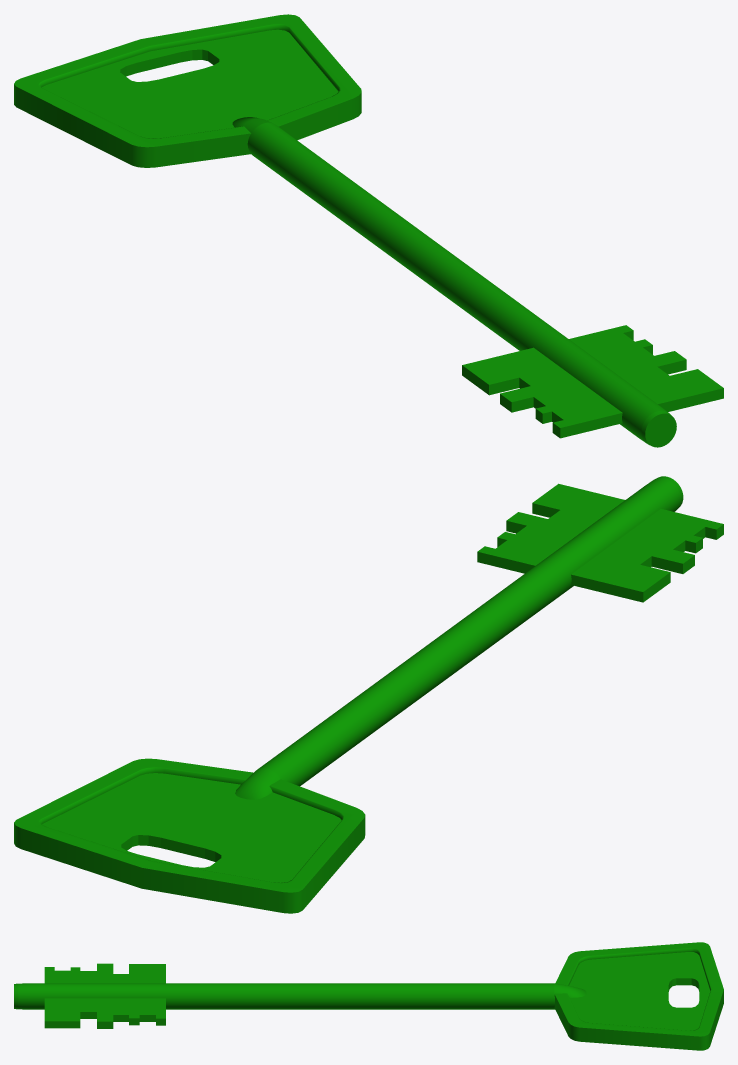
The model's file is key1_green.fbx.
The picture shows the model from 3 angles, top to bottom: view 1: azimuth 30°, elevation 25°; view 2: azimuth 150°, elevation 25°; view 3: azimuth 270°, elevation 25°; orthographic projection. The views are drawn at different scales.
Visible parts, largest first — view 1: key1; view 2: key1; view 3: key1.
Boxes of the visible parts, box(x1,y1,x2,y2) form: key1: box(14, 14, 723, 447); key1: box(14, 476, 723, 913); key1: box(14, 942, 723, 1050).
Bounding box in the file's own units: 28.61 × 3.37 × 90.99.
